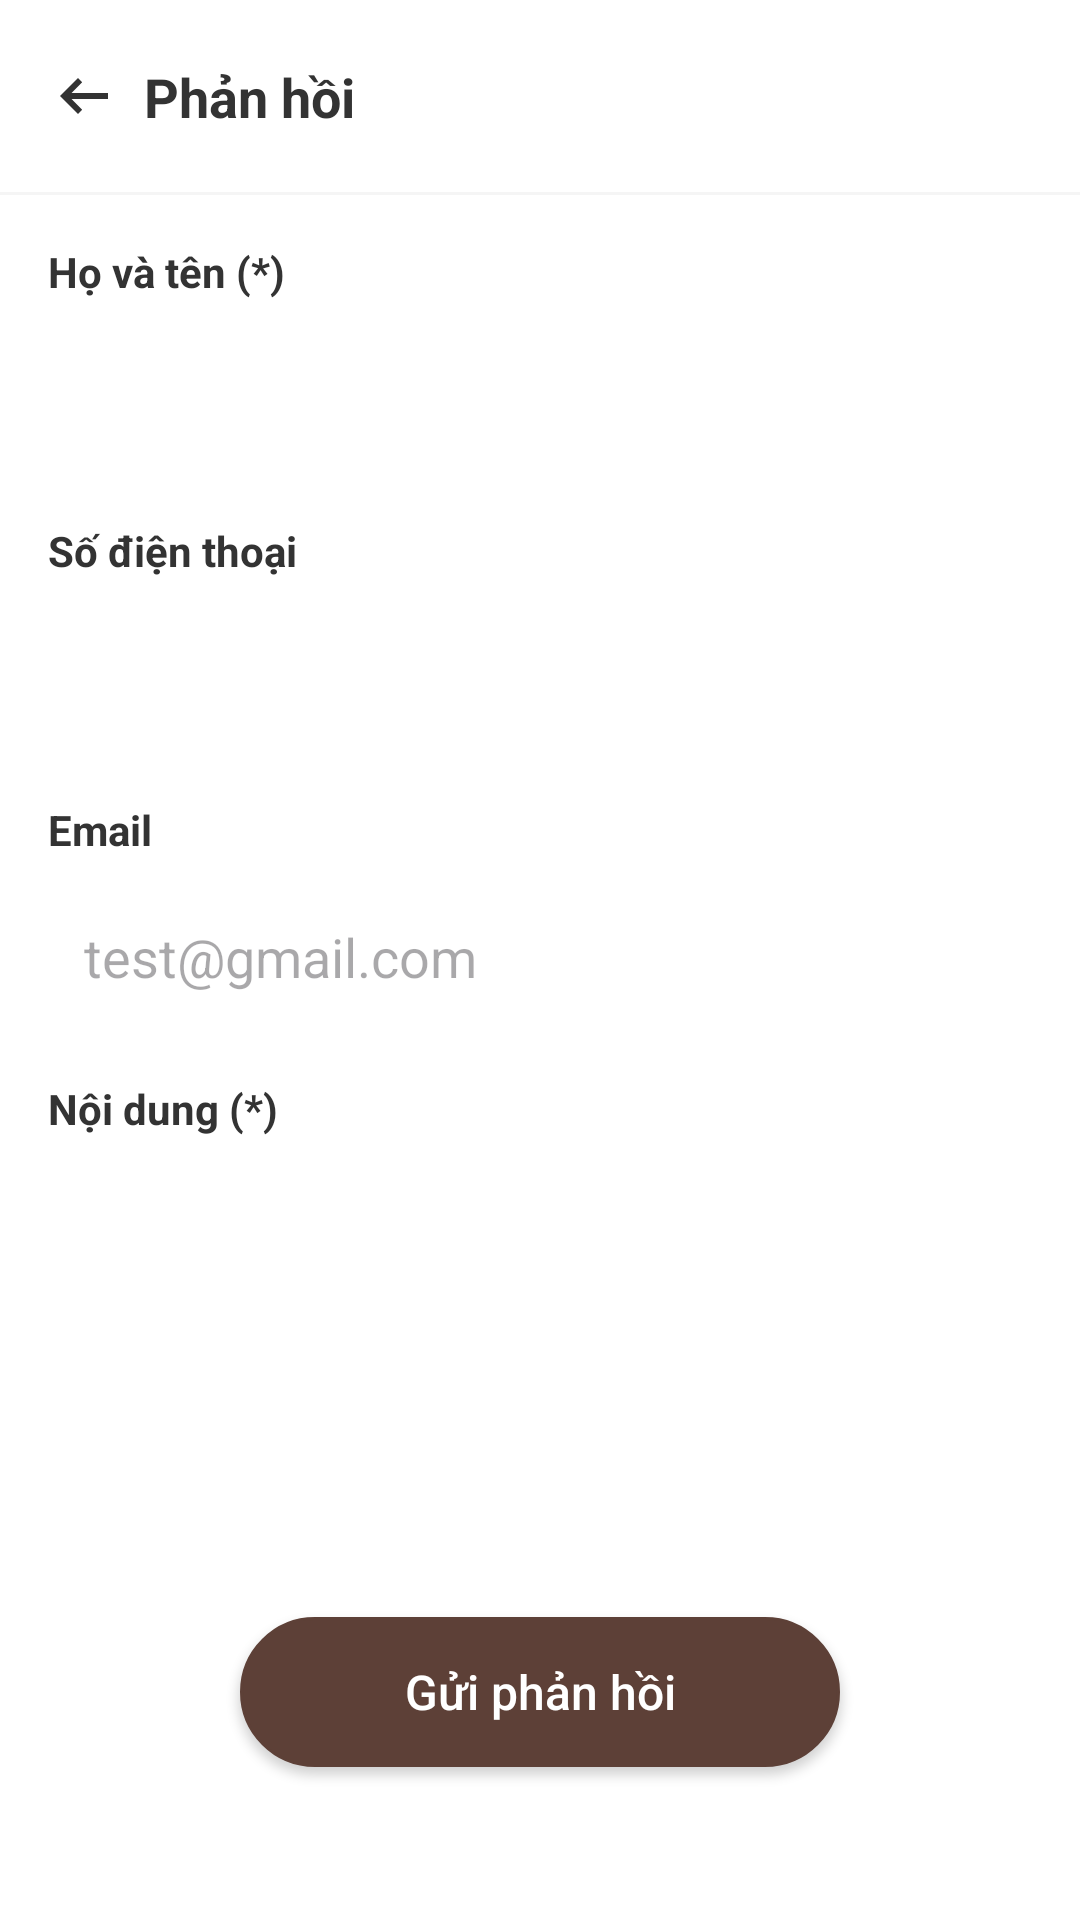

Icon click points for this 1080x1920 phone screenshot, format (x,y):
arrow back: (84,96)
